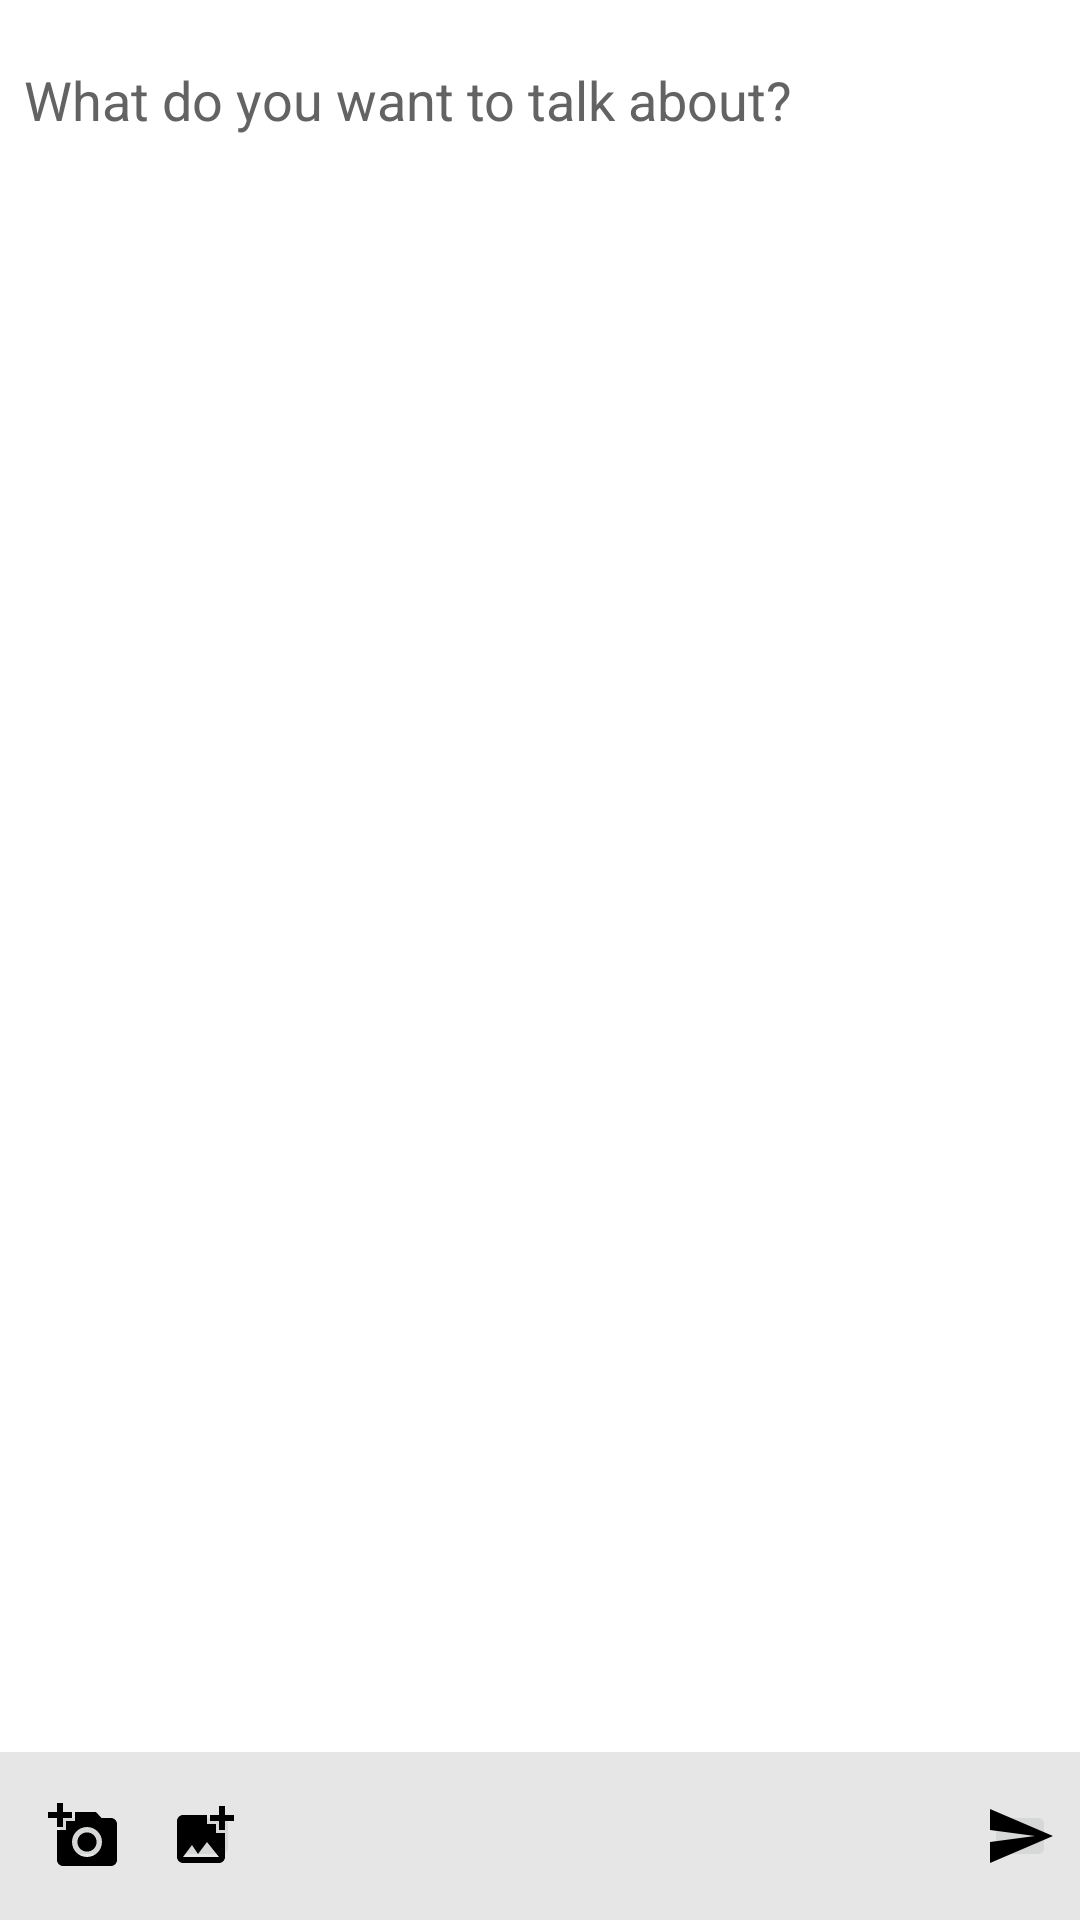

Locate icon controls on the screen. Image size 1080 × 1920, boxes as (x1, y1, x2, y2).
add photo: (48, 1803, 117, 1866)
add photo alternate: (177, 1806, 234, 1863)
send: (990, 1809, 1053, 1863)
